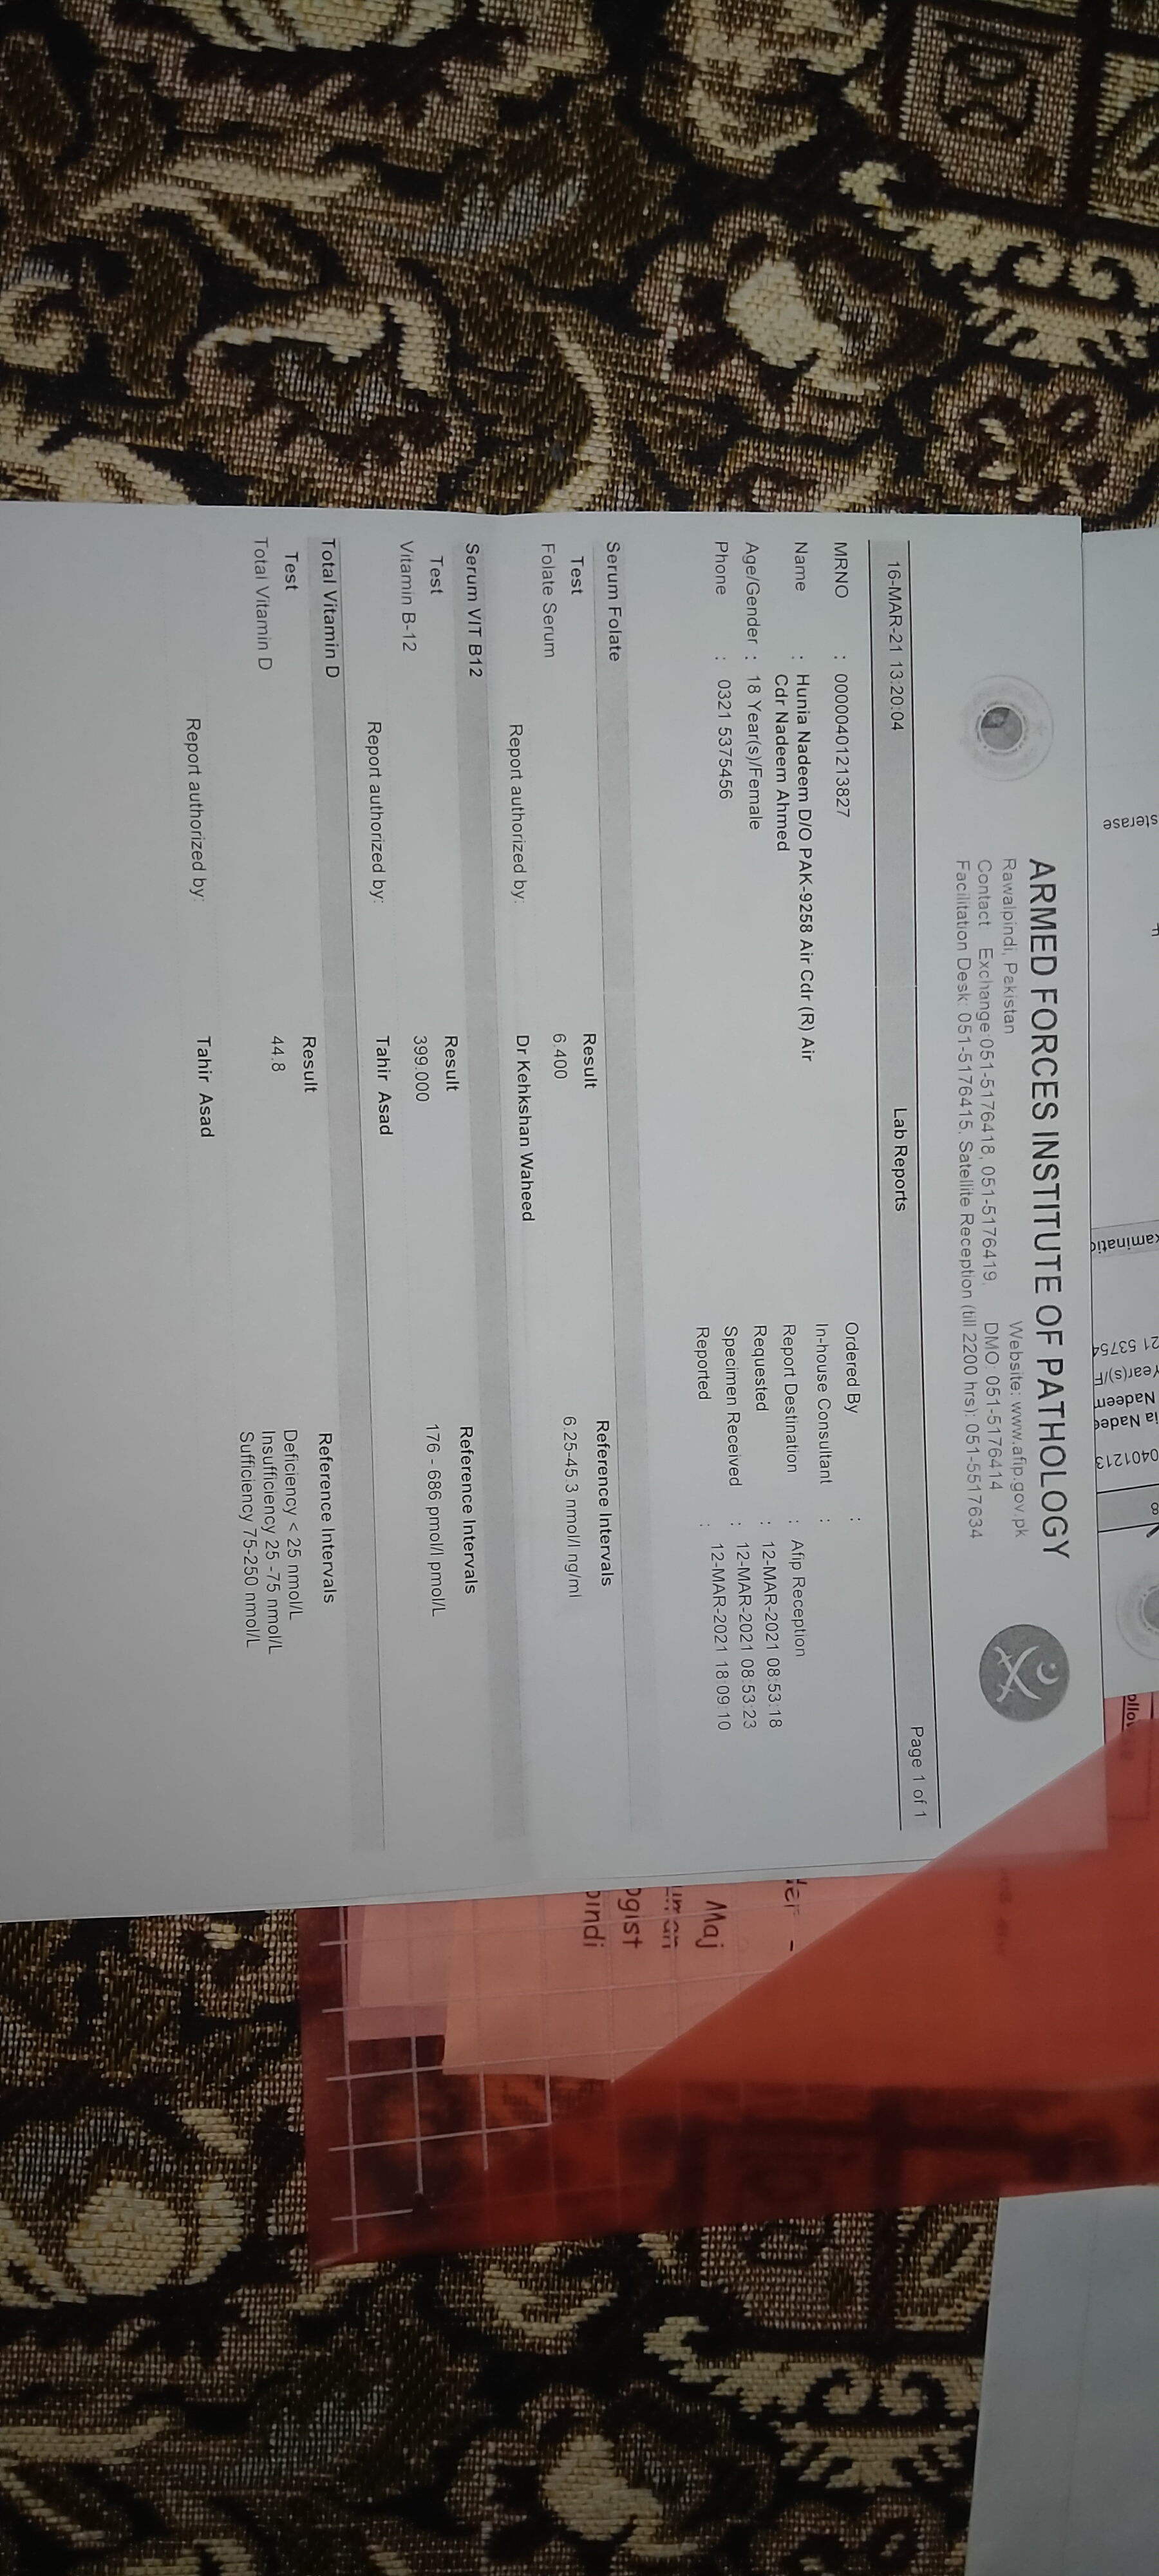report: (141, 524, 675, 1893)
